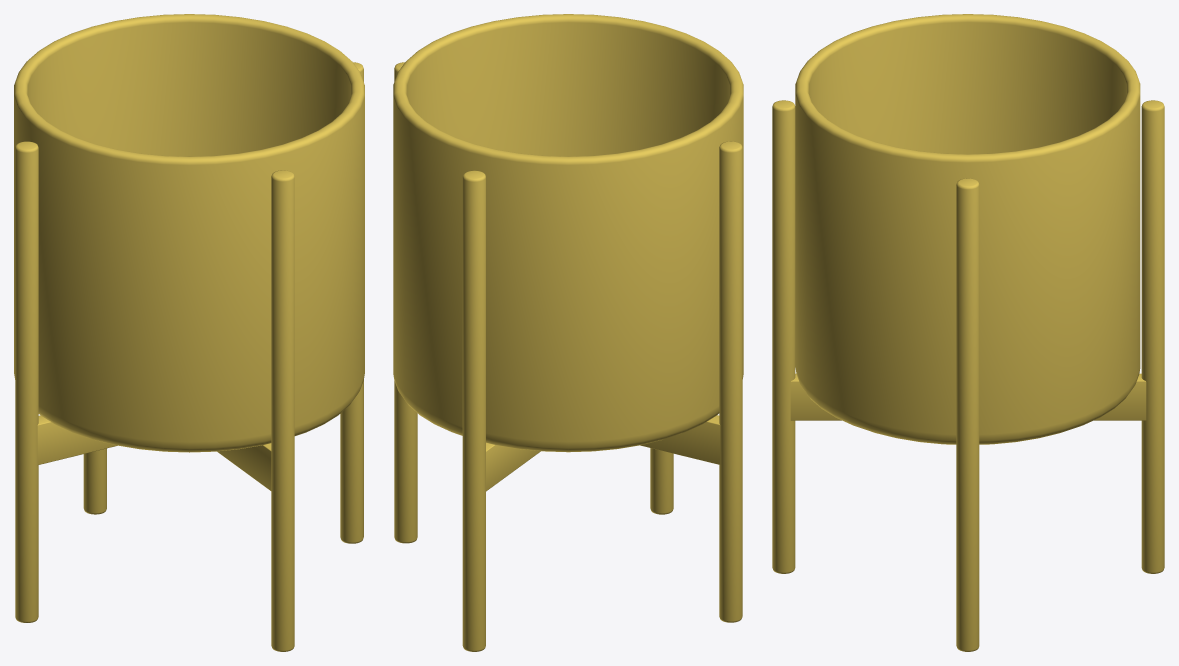
3 renders of one model, left to right at view 1: azimuth 30°, elevation 25°; view 2: azimuth 150°, elevation 25°; view 3: azimuth 270°, elevation 25°, orthographic.
Visible parts, largest first — view 1: Cylinder001; view 2: Cylinder001; view 3: Cylinder001.
Part boxes in pixels (bbox=[...]): Cylinder001: bbox=[14, 14, 364, 651]; Cylinder001: bbox=[393, 14, 743, 651]; Cylinder001: bbox=[772, 14, 1164, 651].
Size of what is drawn, in the model's own units: 14.73 by 20.08 by 14.73.
